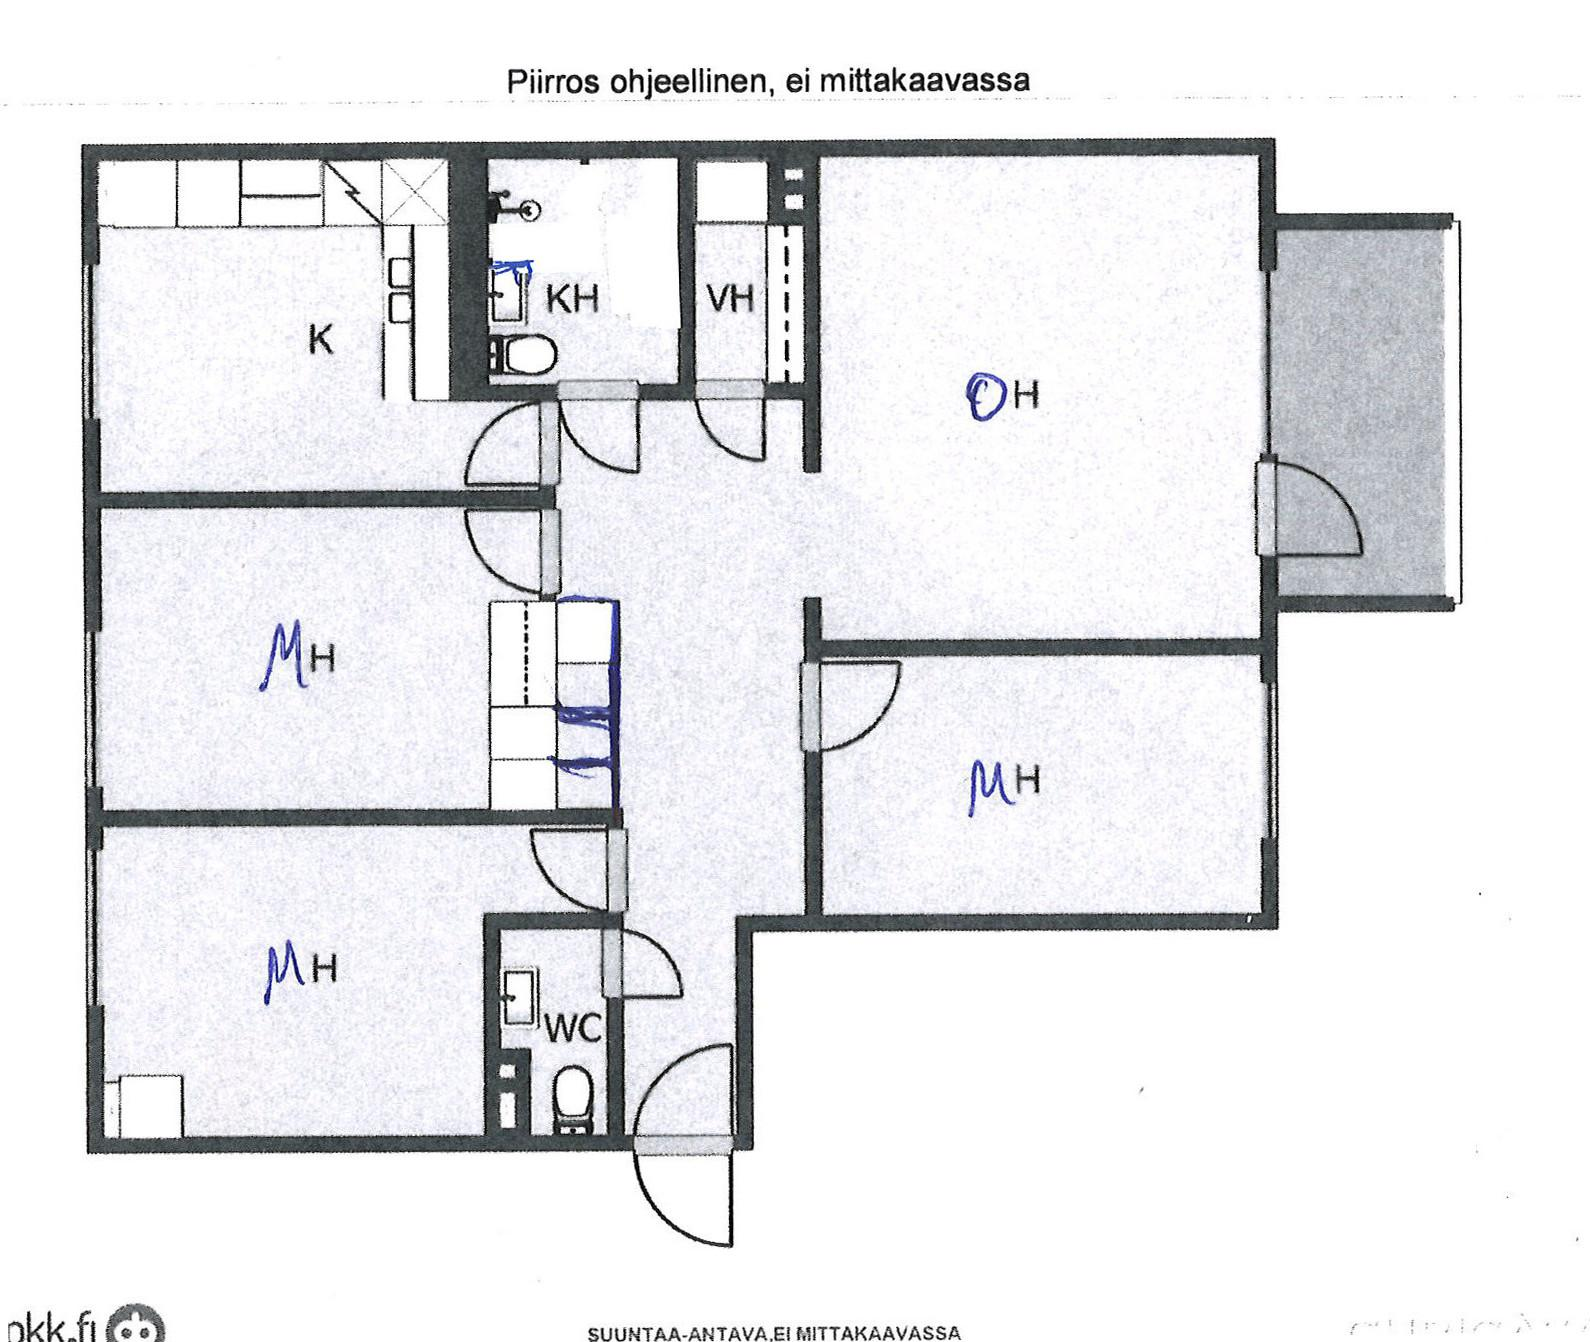bathroom: (480, 152, 686, 391), (498, 930, 617, 1141)
door: (1245, 444, 1372, 564), (629, 1040, 743, 1152), (635, 1138, 748, 1250), (455, 502, 567, 601), (793, 659, 907, 756), (554, 371, 649, 478), (526, 827, 633, 915), (465, 397, 562, 489), (593, 924, 692, 1008), (692, 375, 773, 470)
perimeter: (81, 144, 1279, 1155)
window: (78, 838, 116, 1023), (73, 618, 108, 808), (71, 256, 106, 431), (1254, 252, 1282, 468), (1252, 668, 1284, 851)
